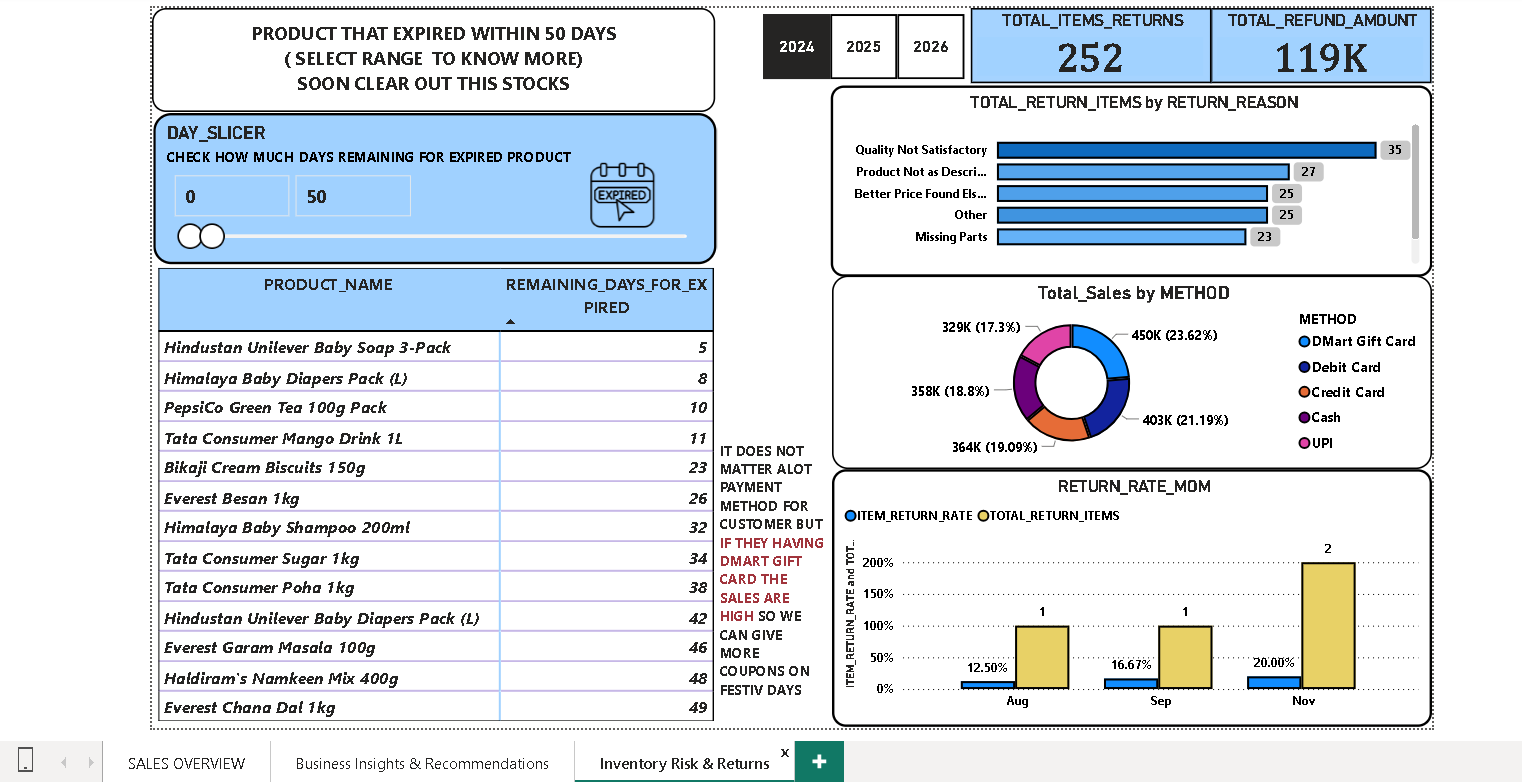

This screenshot's page, from the dashboard's own definition file:
{"tool":"powerbi","page":{"name":"Inventory Risk & Returns","canvas":[1280,720],"ordinal":2},"visuals":[{"type":"slicer","title":"DAY_SLICER","fields":{"Values":["dmart_db product_table.REMAINING_DAYS_FOR_EXPIRED"]},"box":[1.4,105.5,563,151.1],"z":0,"group":"g1"},{"type":"tableEx","fields":{"Values":["dmart_db product_table.PRODUCT_NAME","dmart_db product_table.REMAINING_DAYS_FOR_EXPIRED"]},"box":[0,255.1,574.4,464.7],"z":0},{"type":"textbox","box":[0,0,563.4,103.8],"z":1000},{"type":"image","box":[391.5,150.1,158.3,74.9],"z":1000,"group":"g1"},{"type":"clusteredBarChart","fields":{"Category":["dmart_db reason_table.RETURN_REASON"],"Y":["dmart_db order_item_table.TOTAL_RETURN_ITEMS"]},"box":[678.5,77,601.5,191],"z":2000},{"type":"cardVisual","title":"TOTAL_REFUND_AMOUNT","fields":{"Data":["dmart_db return_table.TOTAL_REFUND_AMOUNT"]},"box":[1059.4,0,220.9,75.5],"z":3000},{"type":"donutChart","fields":{"Y":["dmart_db order_item_table.Total_Sales"],"Category":["dmart_db payment_table.METHOD"]},"box":[679.9,268,600.1,193.9],"z":4000},{"type":"group","id":"g1","title":"Group 1","box":[1.4,105.5,563,151.1],"z":5000},{"type":"textbox","box":[563,410.5,115.5,309.3],"z":6000},{"type":"cardVisual","title":"TOTAL_ITEMS_RETURNS","fields":{"Data":["dmart_db order_item_table.TOTAL_RETURN_ITEMS"]},"box":[818.2,0,240.9,75.5],"z":8000},{"type":"clusteredColumnChart","title":"RETURN_RATE_MOM","fields":{"Category":["dim_date.Month"],"Y":["dmart_db order_item_table.ITEM_RETURN_RATE","dmart_db order_item_table.TOTAL_RETURN_ITEMS"]},"box":[679.9,461.8,600.1,258],"z":9000},{"type":"advancedSlicerVisual","fields":{"Values":["dim_date.Year"]},"box":[605.8,1.4,212.4,75.5],"z":10000}]}

Visuals, with their boxes on the page's 1280x720 design canvas (x1, y1, x2, y2). These are canvas units, not pixel positions in the 1522x782 screenshot, which may show the page scaled, cropped or inside an application window:
"DAY_SLICER" slicer: {"left": 1, "top": 106, "right": 564, "bottom": 257}
tableEx - dmart_db product_table.PRODUCT_NAME x dmart_db product_table.REMAINING_DAYS_FOR_EXPIRED: {"left": 0, "top": 255, "right": 574, "bottom": 720}
textbox: {"left": 0, "top": 0, "right": 563, "bottom": 104}
image: {"left": 392, "top": 150, "right": 550, "bottom": 225}
clusteredBarChart - dmart_db reason_table.RETURN_REASON x dmart_db order_item_table.TOTAL_RETURN_ITEMS: {"left": 678, "top": 77, "right": 1280, "bottom": 268}
"TOTAL_REFUND_AMOUNT" cardVisual: {"left": 1059, "top": 0, "right": 1280, "bottom": 76}
donutChart - dmart_db order_item_table.Total_Sales x dmart_db payment_table.METHOD: {"left": 680, "top": 268, "right": 1280, "bottom": 462}
"Group 1" group: {"left": 1, "top": 106, "right": 564, "bottom": 257}
textbox: {"left": 563, "top": 410, "right": 678, "bottom": 720}
"TOTAL_ITEMS_RETURNS" cardVisual: {"left": 818, "top": 0, "right": 1059, "bottom": 76}
"RETURN_RATE_MOM" clusteredColumnChart: {"left": 680, "top": 462, "right": 1280, "bottom": 720}
advancedSlicerVisual - dim_date.Year: {"left": 606, "top": 1, "right": 818, "bottom": 77}
